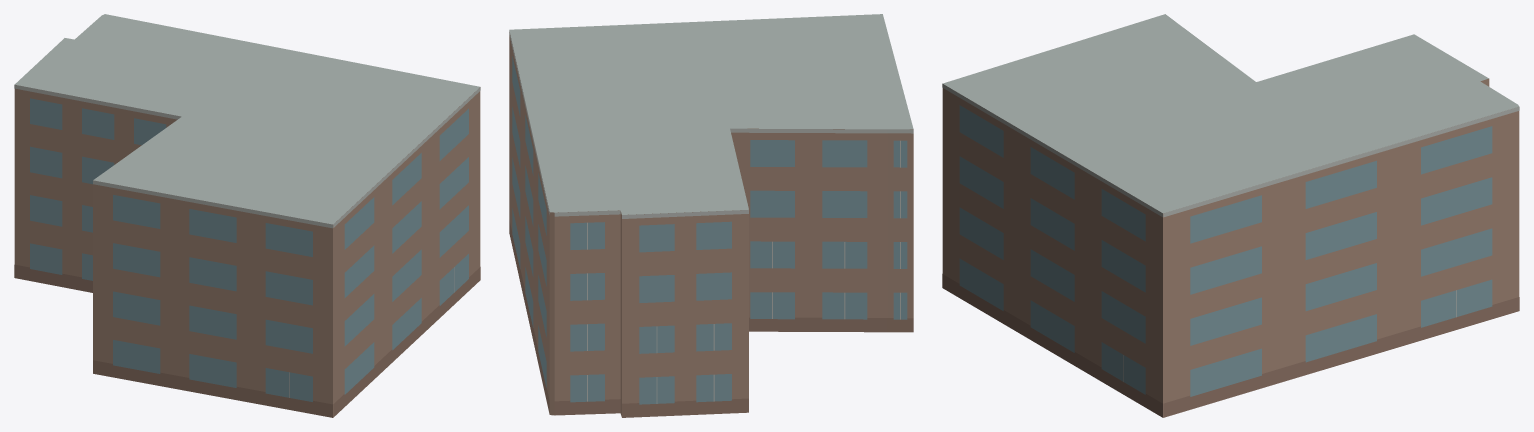
Rendered from survey-upis-32843562.glb.
The picture shows the model from 3 angles, left to right: view 1: azimuth 30°, elevation 25°; view 2: azimuth 150°, elevation 25°; view 3: azimuth 270°, elevation 25°; orthographic projection. The views are drawn at different scales.
Parts seen in each view (by area): view 1: survey-upis-32843562.tmp; view 2: survey-upis-32843562.tmp; view 3: survey-upis-32843562.tmp.
Boxes of the visible parts, x1=… form: survey-upis-32843562.tmp: x1=14, y1=14, x2=480, y2=417; survey-upis-32843562.tmp: x1=509, y1=14, x2=913, y2=417; survey-upis-32843562.tmp: x1=942, y1=14, x2=1519, y2=417.
Bounding box in the file's own units: 25.53 × 12.2 × 31.21.
